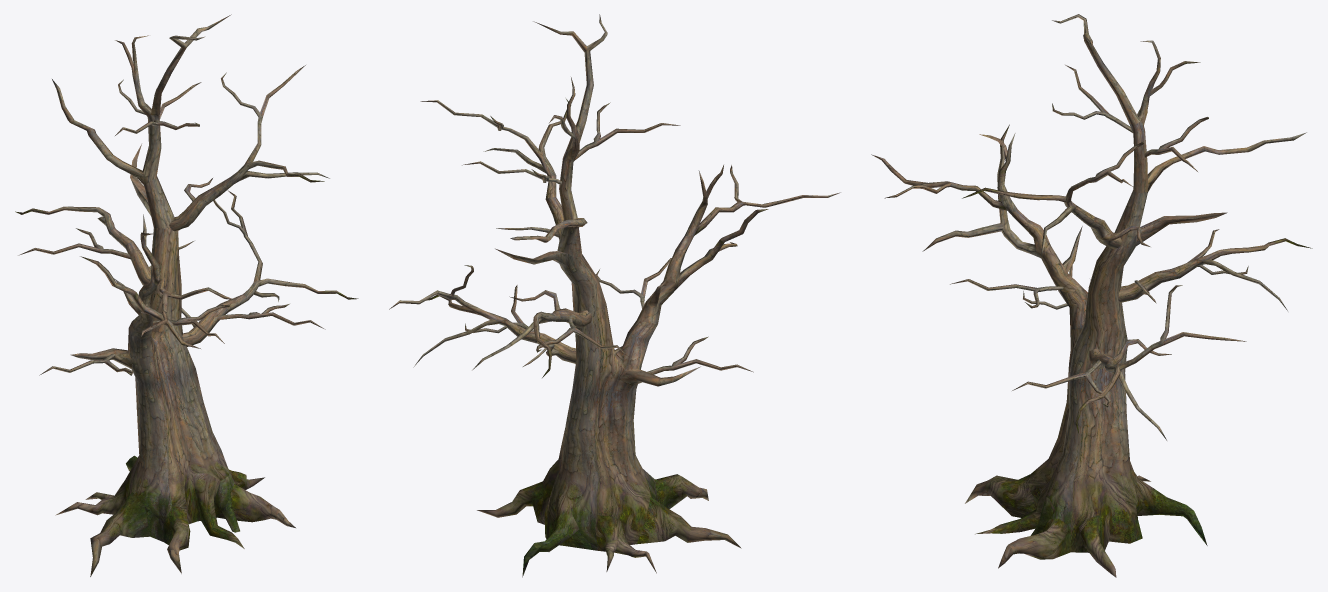
Rendered from Yland1_sg_04 Yland1.FBX.
3 renders of one model, left to right at view 1: azimuth 30°, elevation 25°; view 2: azimuth 150°, elevation 25°; view 3: azimuth 270°, elevation 25°, orthographic. The views are drawn at different scales.
Visible parts, largest first — view 1: Yland1_sg_04 Yland1; view 2: Yland1_sg_04 Yland1; view 3: Yland1_sg_04 Yland1.
Part boxes in pixels (box(x1,y1,x2,y2)): Yland1_sg_04 Yland1: box(15, 14, 358, 576); Yland1_sg_04 Yland1: box(389, 14, 840, 577); Yland1_sg_04 Yland1: box(871, 14, 1312, 577).
Size of the model in its own units: 4.38 by 6.43 by 4.89.
